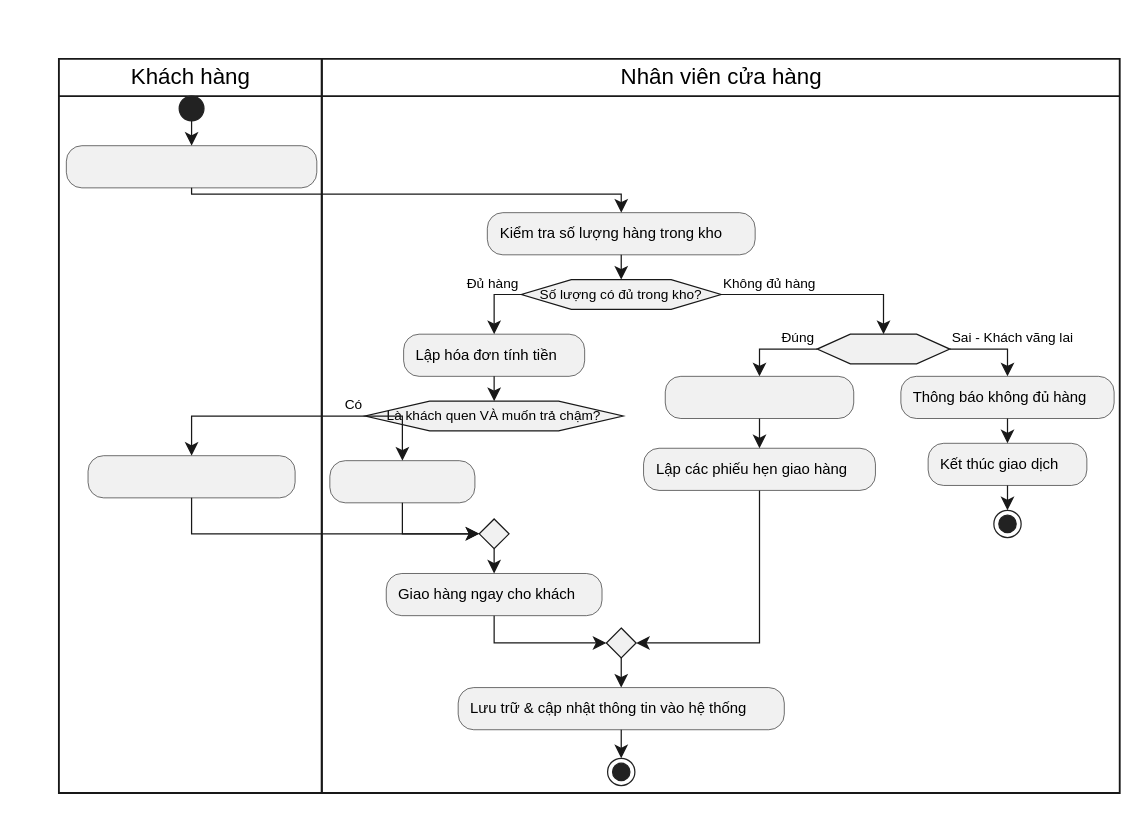
Some shapes in this 1142 by 815 pixel diagram are drawn without their labels. Each missing label, with the centre of its shape:
Là Khách quen?: (883,348)
Lập hóa đơn mua hàng: (758,396)
Lập phiếu ghi nợ: (402,481)
Thanh toán hóa đơn ngay: (191,476)
Yêu cầu đặt mua nước giải khát: (191,166)
